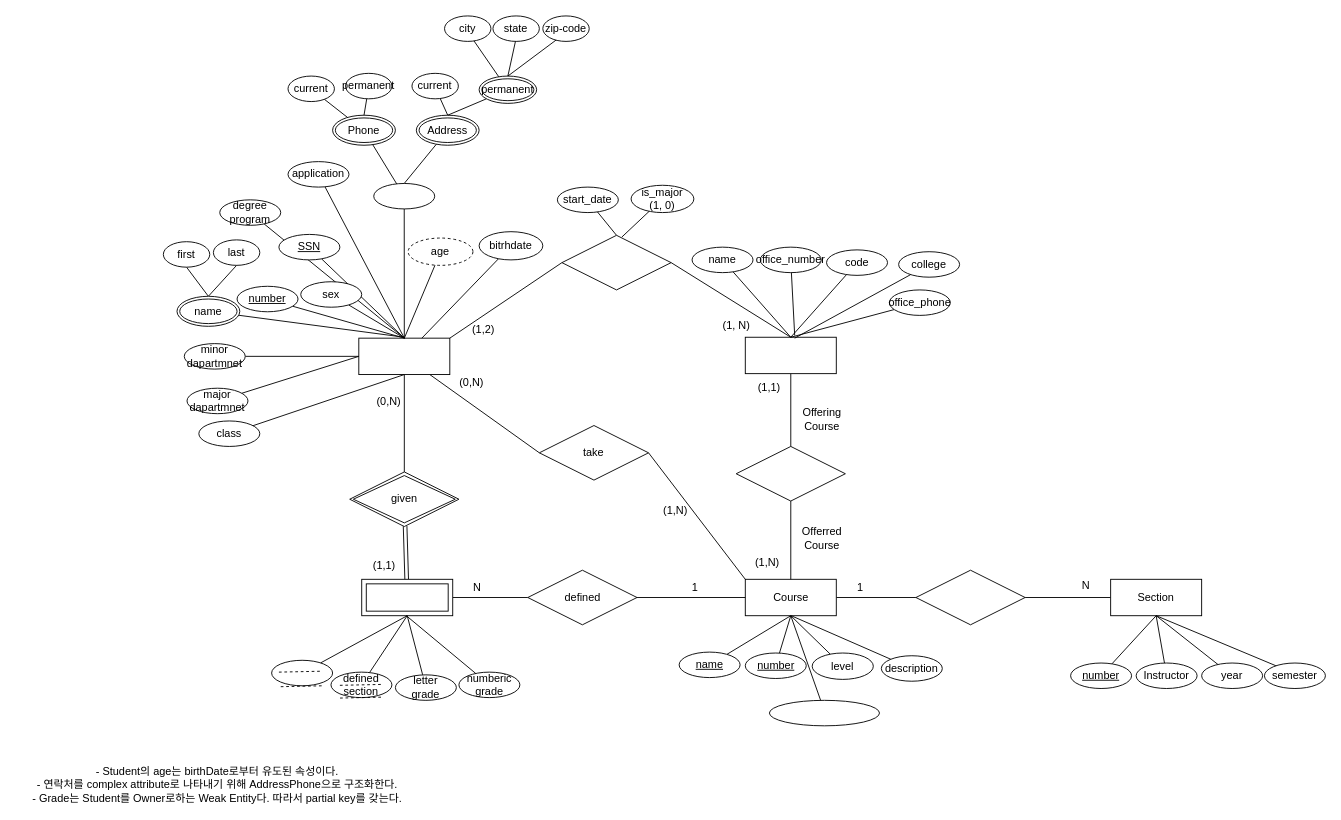
This 1341x820 diagram has some shape labels left out. The centre of each missing label's shape, as x and y in pixels:
AddressPhone: the point at 404,196
Department: the point at 790,355
enroll: the point at 616,262
Grade: the point at 407,597
granted_ student_: the point at 302,672
has: the point at 970,597
Offering: the point at 790,473
semester_hours _number: the point at 824,712
Student: the point at 404,356
